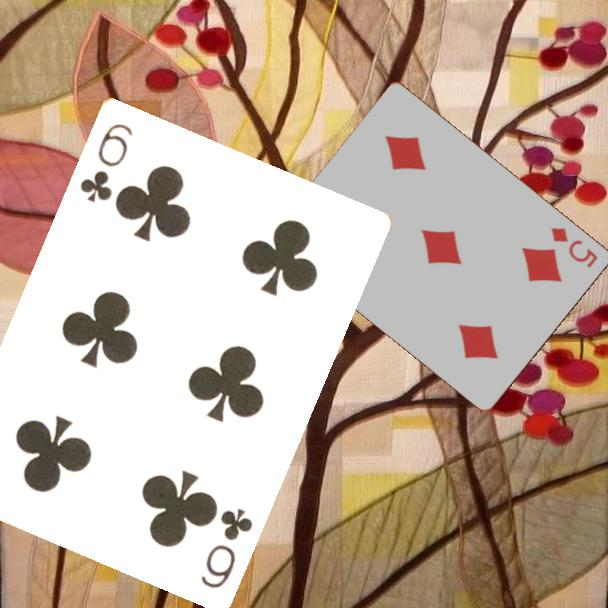c06: (196, 504, 256, 591), (76, 119, 136, 205)
d05: (548, 224, 601, 271)
